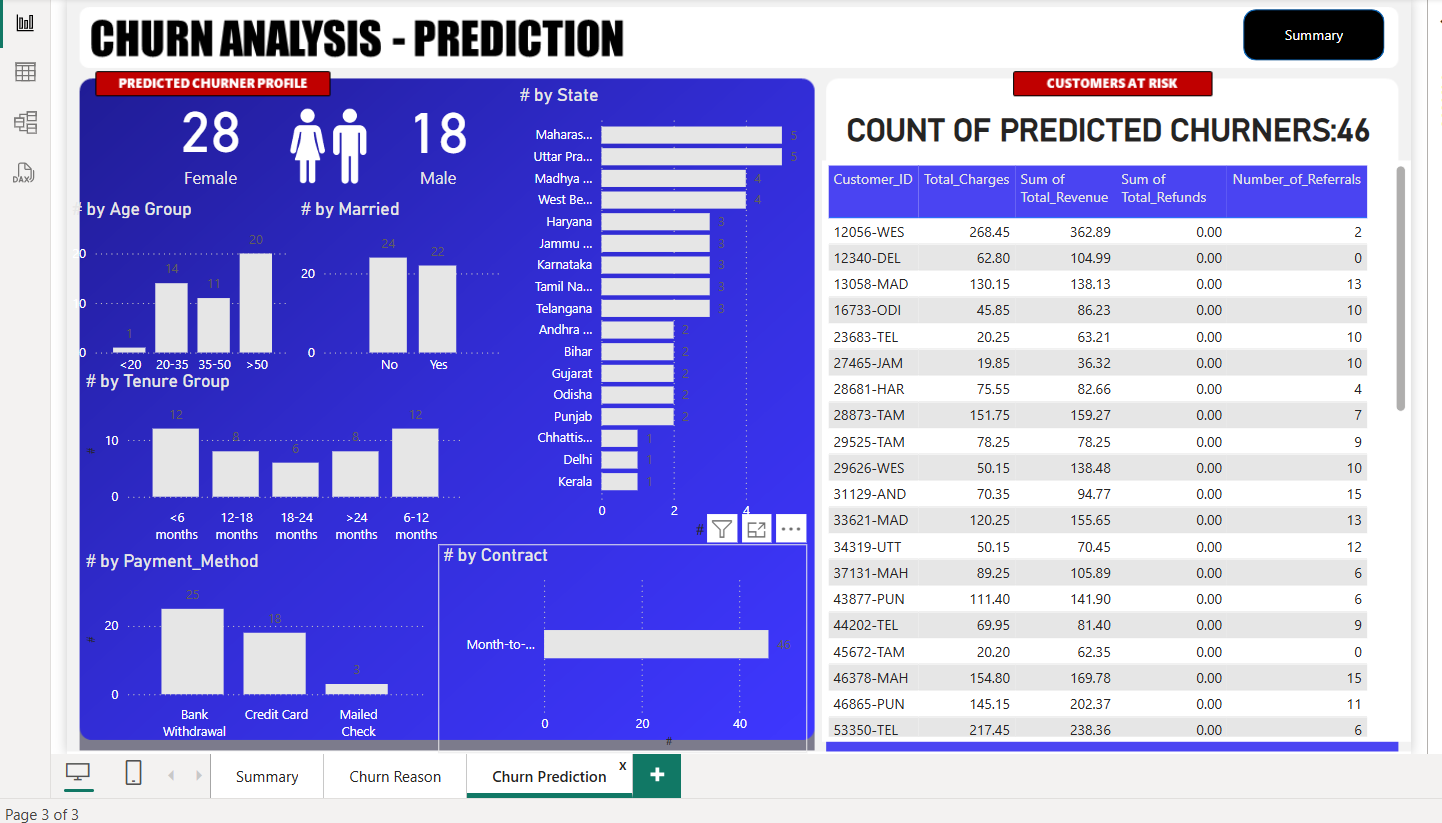

Layout of this report page (visuals, bound fields, positions):
{"tool":"powerbi","page":{"name":"Churn Prediction","canvas":[1280,720],"ordinal":2},"visuals":[{"type":"tableEx","fields":{"Values":["Predictions.Customer_ID","Predictions.Total_Charges","Sum(Predictions.Total_Revenue)","Sum(Predictions.Total_Refunds)","Predictions.Number_of_Referrals"]},"box":[719.1,154.8,560.7,553.6],"z":0},{"type":"card","fields":{"Values":["tbl_measures.Title Predicted Churner"]},"box":[704.8,98.8,575,50],"z":1000},{"type":"card","fields":{"Values":["tbl_measures.Count Predicted Churner"]},"box":[13.1,51.2,247.6,161.9],"z":2000},{"type":"card","fields":{"Values":["tbl_measures.Count Predicted Churner"]},"box":[244,51.2,219,163.1],"z":3000},{"type":"clusteredColumnChart","fields":{"Category":["mapping age.Age Group"],"Y":["CountNonNull(Predictions.Customer_ID)"]},"box":[0,190.5,217.9,177.4],"z":4000},{"type":"clusteredColumnChart","fields":{"Y":["CountNonNull(Predictions.Customer_ID)"],"Category":["Predictions.Married"]},"box":[217.9,190.5,202.4,177.4],"z":5000},{"type":"clusteredColumnChart","fields":{"Y":["CountNonNull(Predictions.Customer_ID)"],"Category":["mapping tenure.Tenure Group"]},"box":[13.1,354.8,370.2,171.4],"z":6000},{"type":"clusteredColumnChart","fields":{"Y":["CountNonNull(Predictions.Customer_ID)"],"Category":["Predictions.Payment_Method"]},"box":[13.1,526.2,332.1,188.1],"z":7000},{"type":"clusteredBarChart","fields":{"Category":["Predictions.Contract"],"Y":["CountNonNull(Predictions.Customer_ID)"]},"box":[353.6,520.2,351.2,198.8],"z":8000},{"type":"clusteredBarChart","fields":{"Y":["CountNonNull(Predictions.Customer_ID)"],"Category":["Predictions.State"]},"box":[426.2,82.1,279.8,438.1],"z":9000},{"type":"image","box":[198.8,90.5,100,100],"z":9001},{"type":"shape","box":[1120.2,10.7,134.5,48.8],"z":9002}]}

Visuals, with their boxes on the page's 1280x720 design canvas (x1, y1, x2, y2). These are canvas units, not pixel positions in the 1442x823 screenshot, which may show the page scaled, cropped or inside an application window:
tableEx - Predictions.Customer_ID x Predictions.Total_Charges: box(719, 155, 1280, 708)
card - tbl_measures.Title Predicted Churner: box(705, 99, 1280, 149)
card - tbl_measures.Count Predicted Churner: box(13, 51, 261, 213)
card - tbl_measures.Count Predicted Churner: box(244, 51, 463, 214)
clusteredColumnChart - mapping age.Age Group x CountNonNull(Predictions.Customer_ID): box(0, 190, 218, 368)
clusteredColumnChart - CountNonNull(Predictions.Customer_ID) x Predictions.Married: box(218, 190, 420, 368)
clusteredColumnChart - CountNonNull(Predictions.Customer_ID) x mapping tenure.Tenure Group: box(13, 355, 383, 526)
clusteredColumnChart - CountNonNull(Predictions.Customer_ID) x Predictions.Payment_Method: box(13, 526, 345, 714)
clusteredBarChart - Predictions.Contract x CountNonNull(Predictions.Customer_ID): box(354, 520, 705, 719)
clusteredBarChart - CountNonNull(Predictions.Customer_ID) x Predictions.State: box(426, 82, 706, 520)
image: box(199, 90, 299, 190)
shape: box(1120, 11, 1255, 60)
